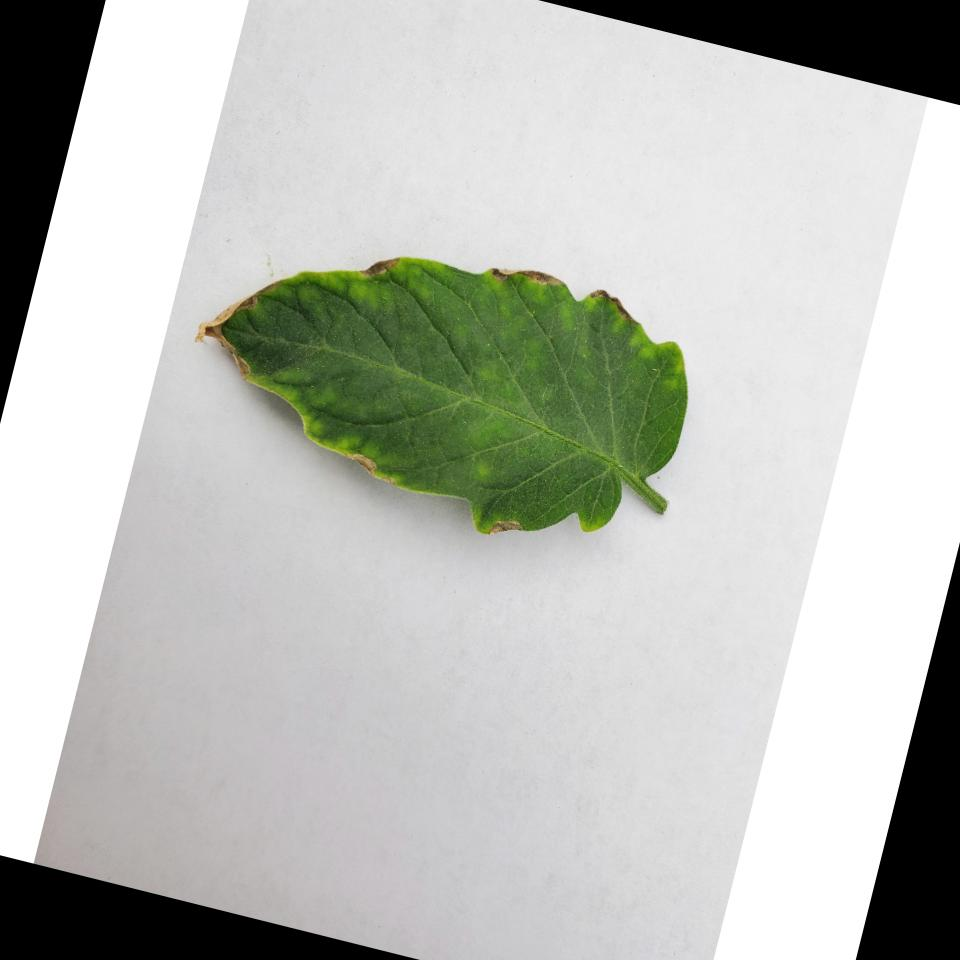tomato_bacterial_blight: (180, 238, 698, 526)
